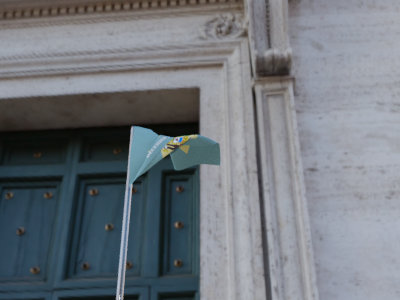Delaware flag: (130, 125, 221, 188)
